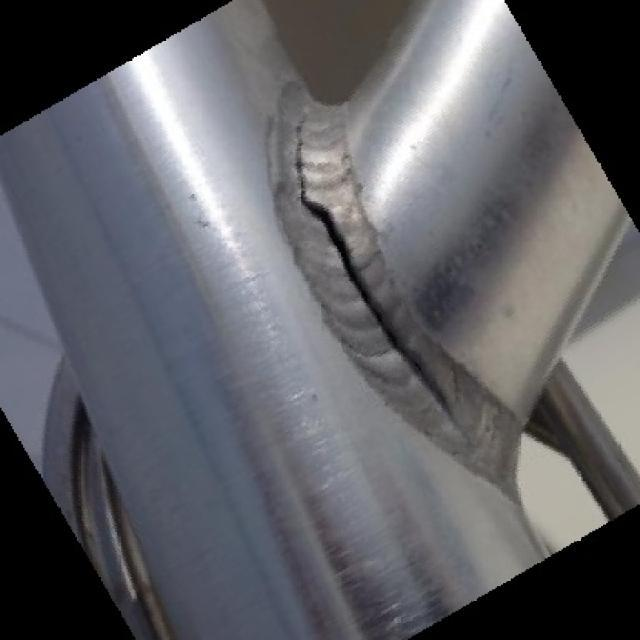crack: (409, 360, 454, 417), (378, 303, 411, 366), (338, 240, 367, 305), (295, 107, 309, 207), (311, 206, 340, 237)
